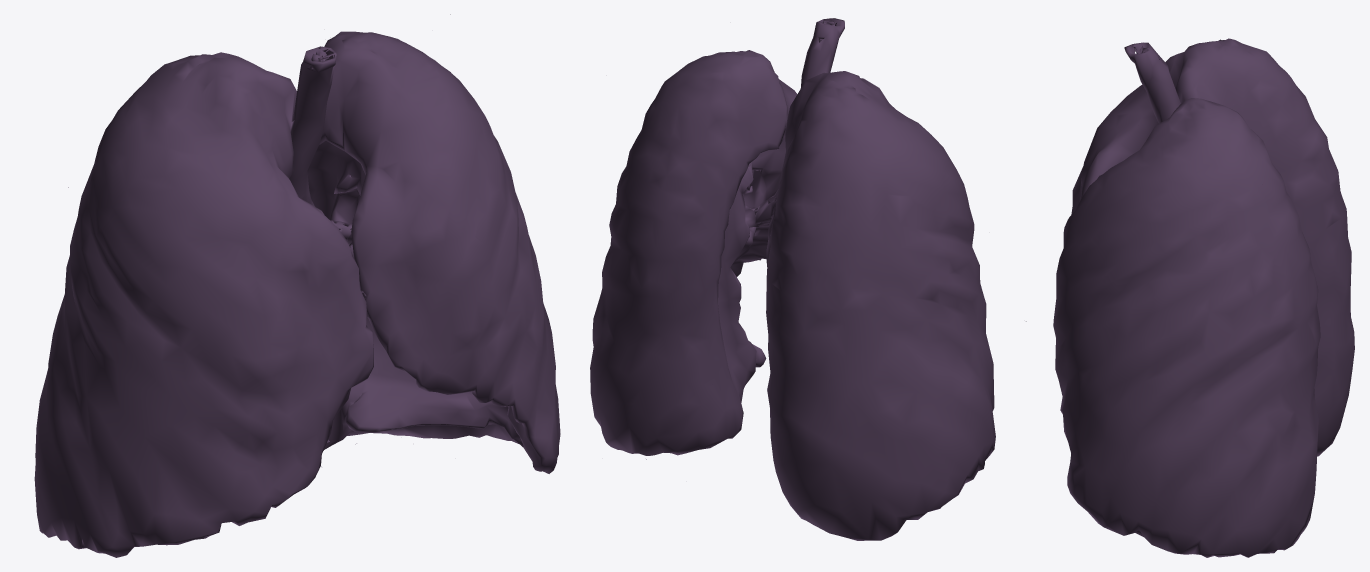
Rendered from Pulmones.fbx.
3 views of the same model, side by side, from view 1: azimuth 30°, elevation 25°; view 2: azimuth 150°, elevation 25°; view 3: azimuth 270°, elevation 25° (orthographic). The views are drawn at different scales.
Parts seen in each view (by area): view 1: Pulmones RAW.002, Pulmones RAW.001; view 2: Pulmones RAW.002, Pulmones RAW.001; view 3: Pulmones RAW.001, Pulmones RAW.002.
Part boxes in pixels (x1,y1,x2,y2): Pulmones RAW.002: [34, 46, 373, 557]; Pulmones RAW.001: [307, 14, 560, 473]; Pulmones RAW.002: [755, 18, 995, 540]; Pulmones RAW.001: [590, 50, 797, 459]; Pulmones RAW.001: [1026, 98, 1320, 557]; Pulmones RAW.002: [1071, 38, 1354, 456].
Size of the model in its own units: 2371 by 2595 by 1715.
